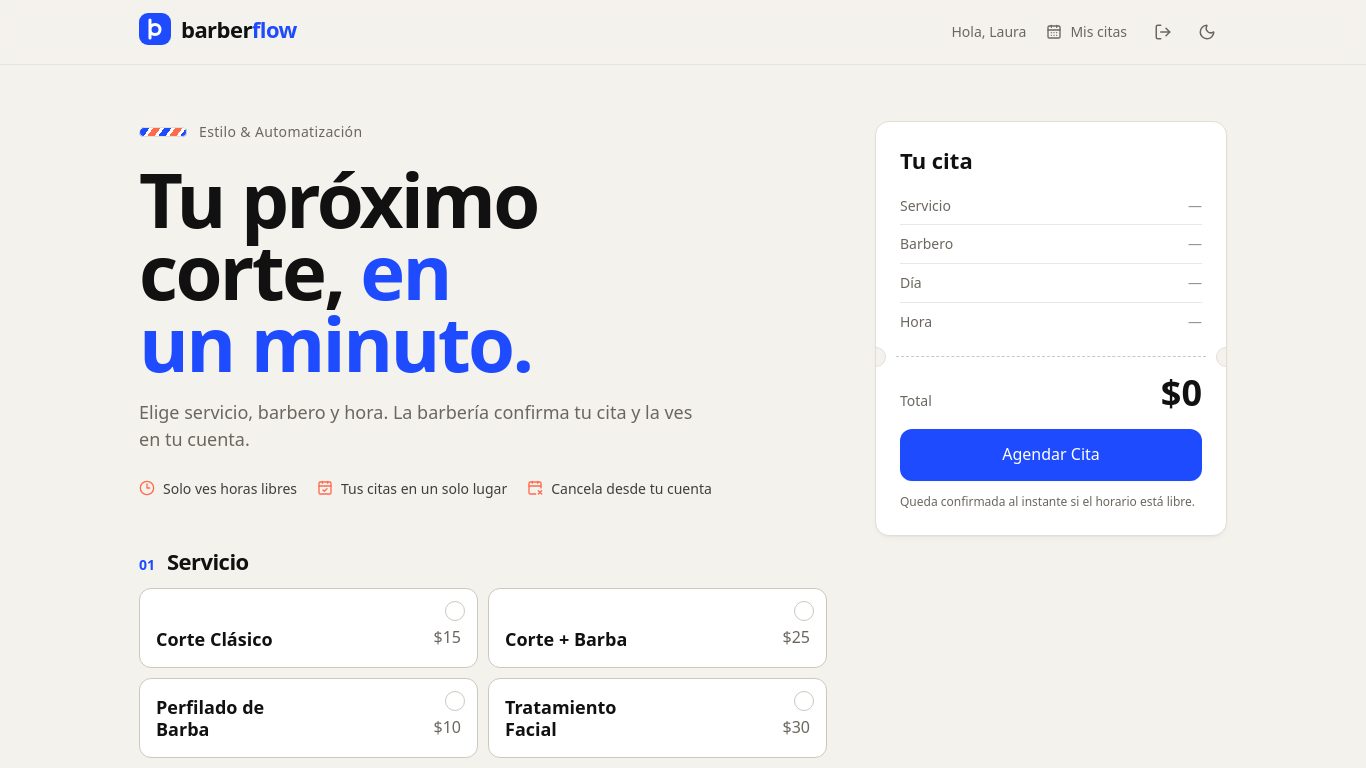
reserva con sesión › si otra persona toma la hora al mismo tiempo, lo explica
Click the radio button labelled "Corte + Barba $25" at (566, 639), box [488,588,827,668]
(page scrolled)
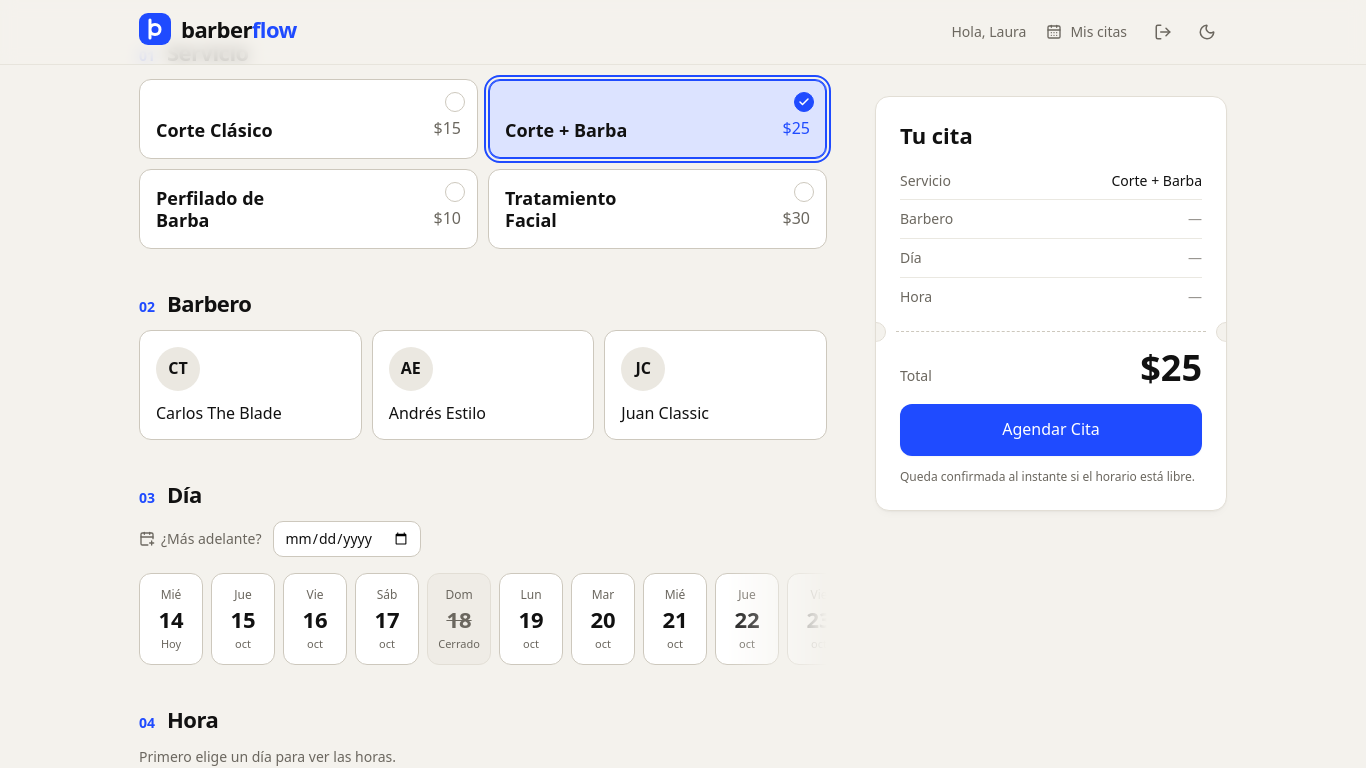
Click the radio button labelled "Andrés Estilo" at (483, 385), box [372,330,594,440]
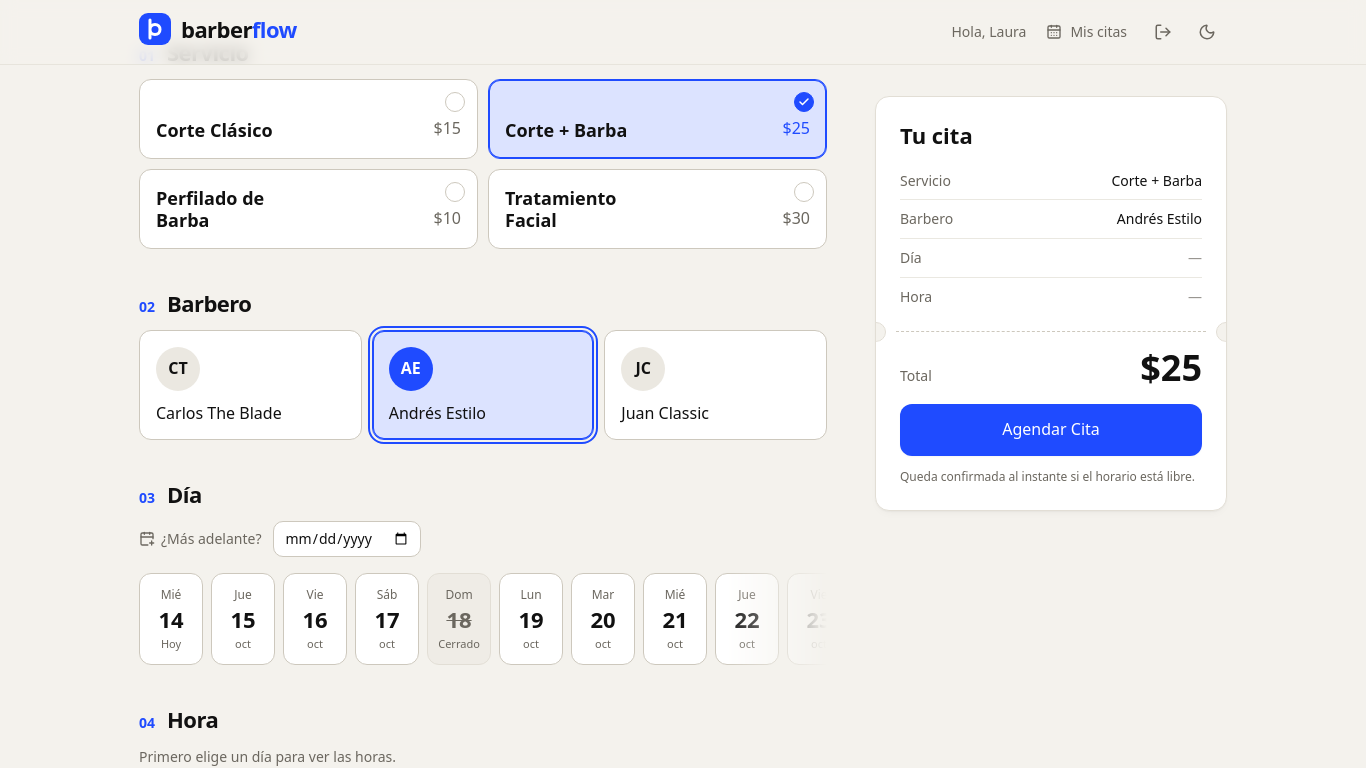
Click the radio button with aria-label "jueves 15 de octubre" at (243, 619), box [211,572,275,665]
(page scrolled)
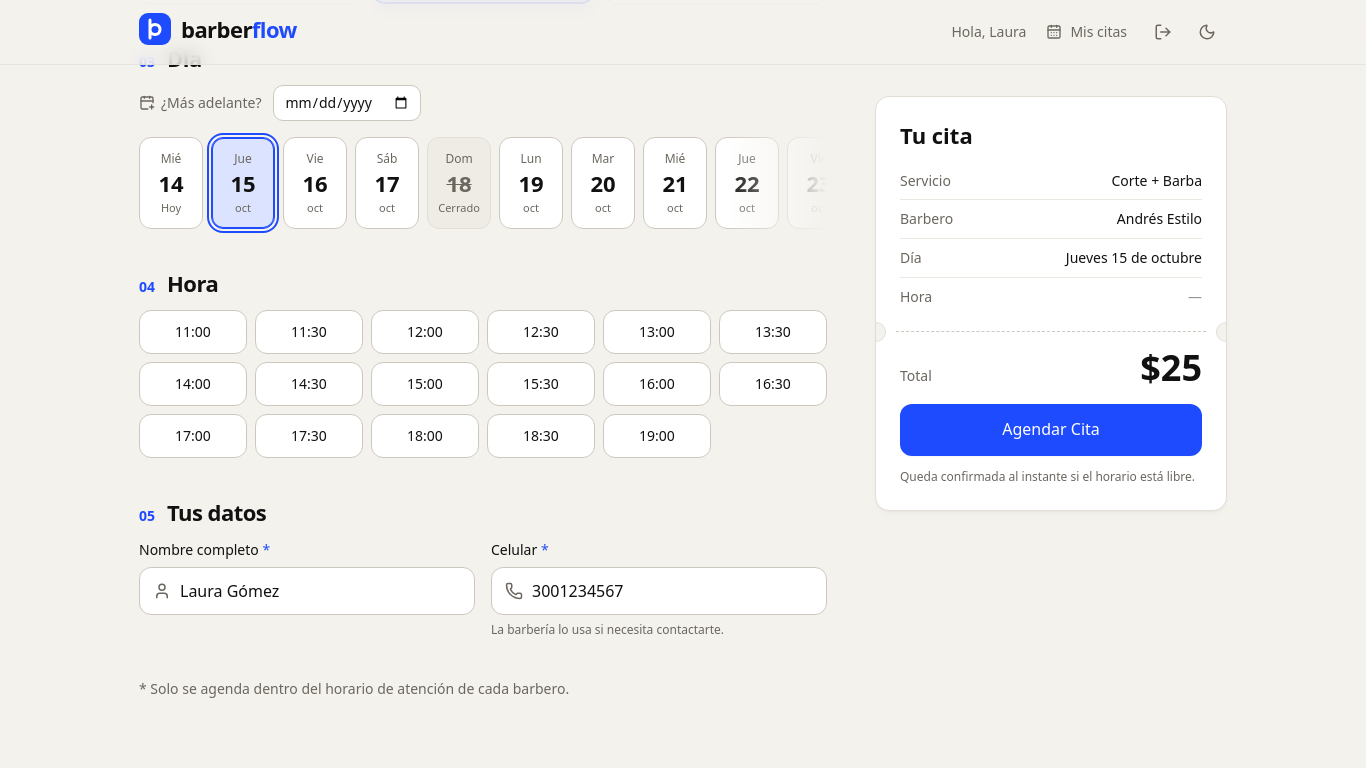
Click the radio button labelled "16:30" at (773, 384), box [719,362,827,406]
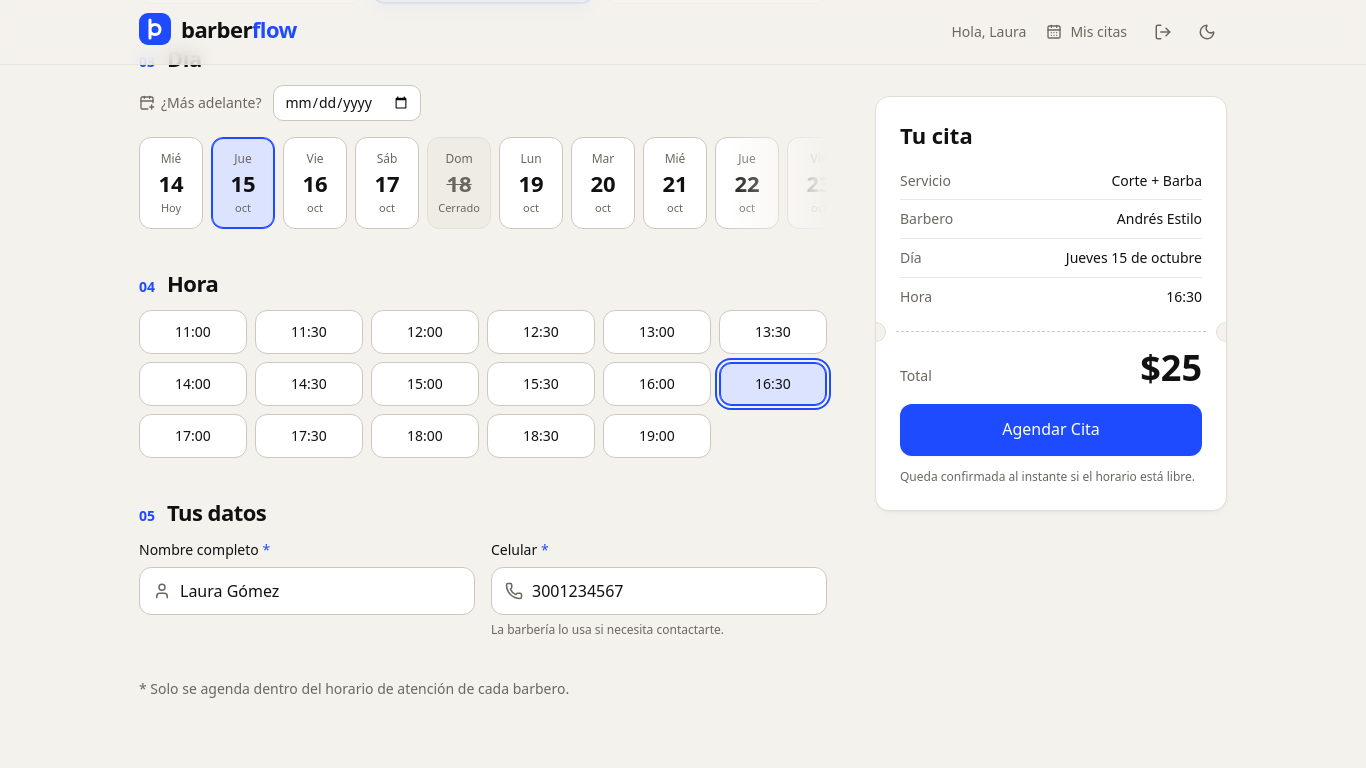
Click the button "Agendar Cita" at (1051, 430), box [900,404,1202,456]
(page scrolled)
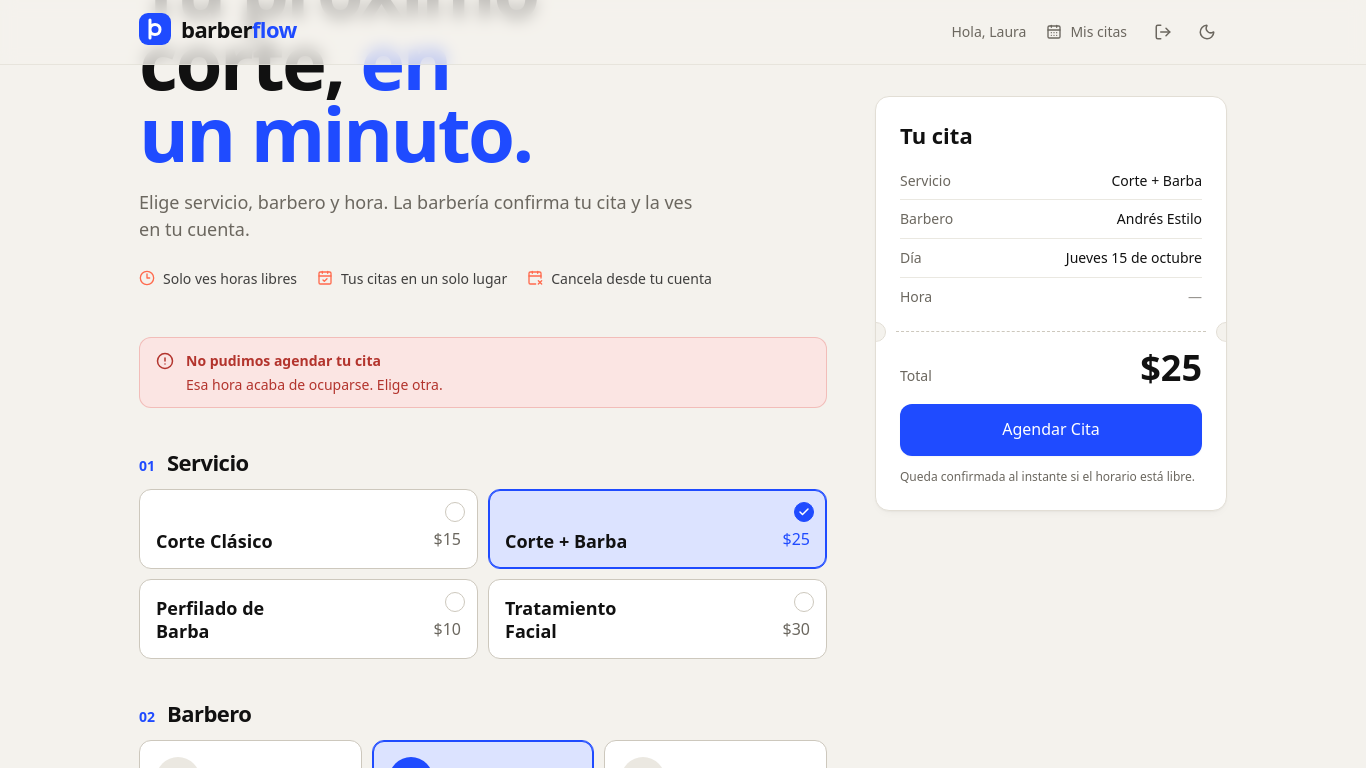
Expected: the text "Esa hora acaba de ocuparse. Elige otra." is shown, [186,375,443,394]
